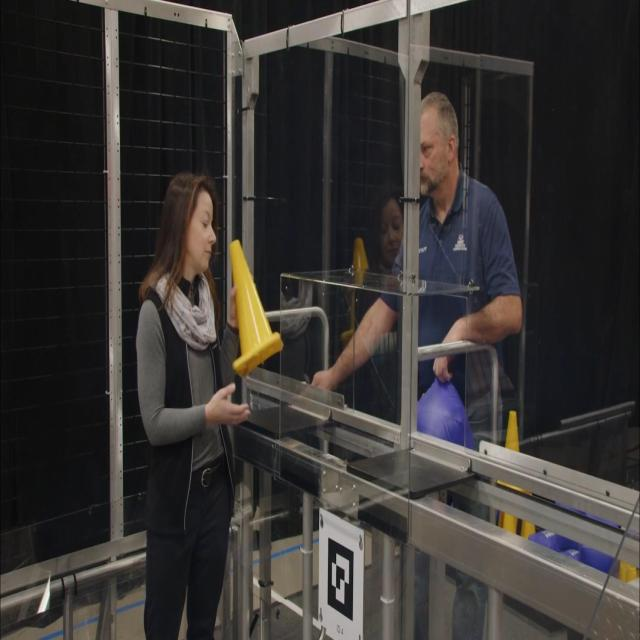frc_cone: (228, 240, 284, 372), (504, 410, 520, 454), (498, 509, 520, 535), (519, 512, 536, 540)
frc_cube: (416, 372, 469, 447), (579, 541, 617, 569), (529, 530, 564, 552), (558, 546, 580, 562)
